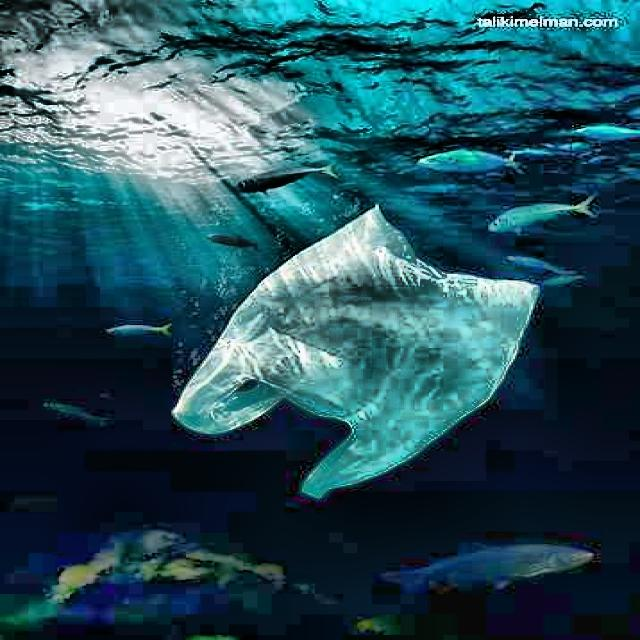Plastic: (165, 194, 549, 512)
